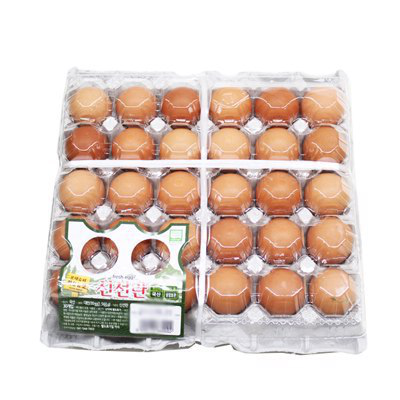egg: (52, 83, 358, 321)
